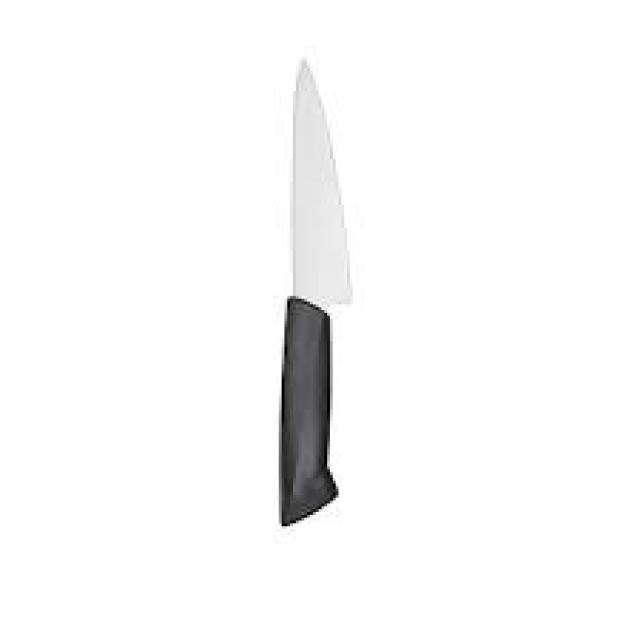Knife: (276, 54, 353, 526)
